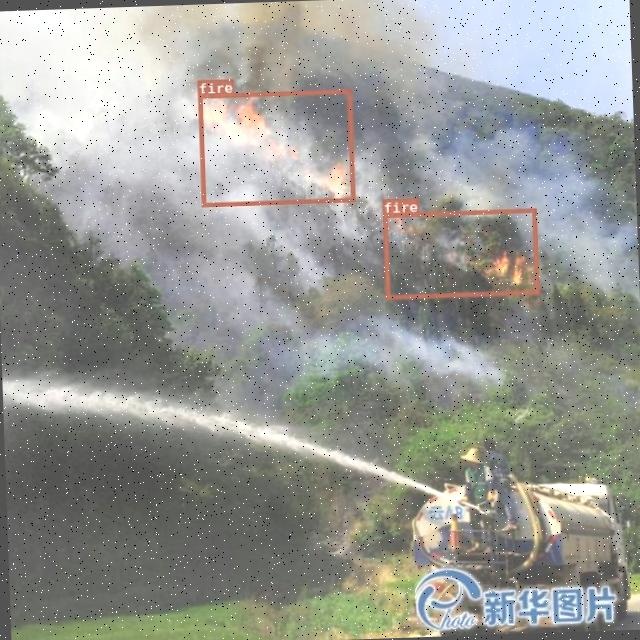fire: (197, 88, 354, 205), (382, 207, 538, 298)
